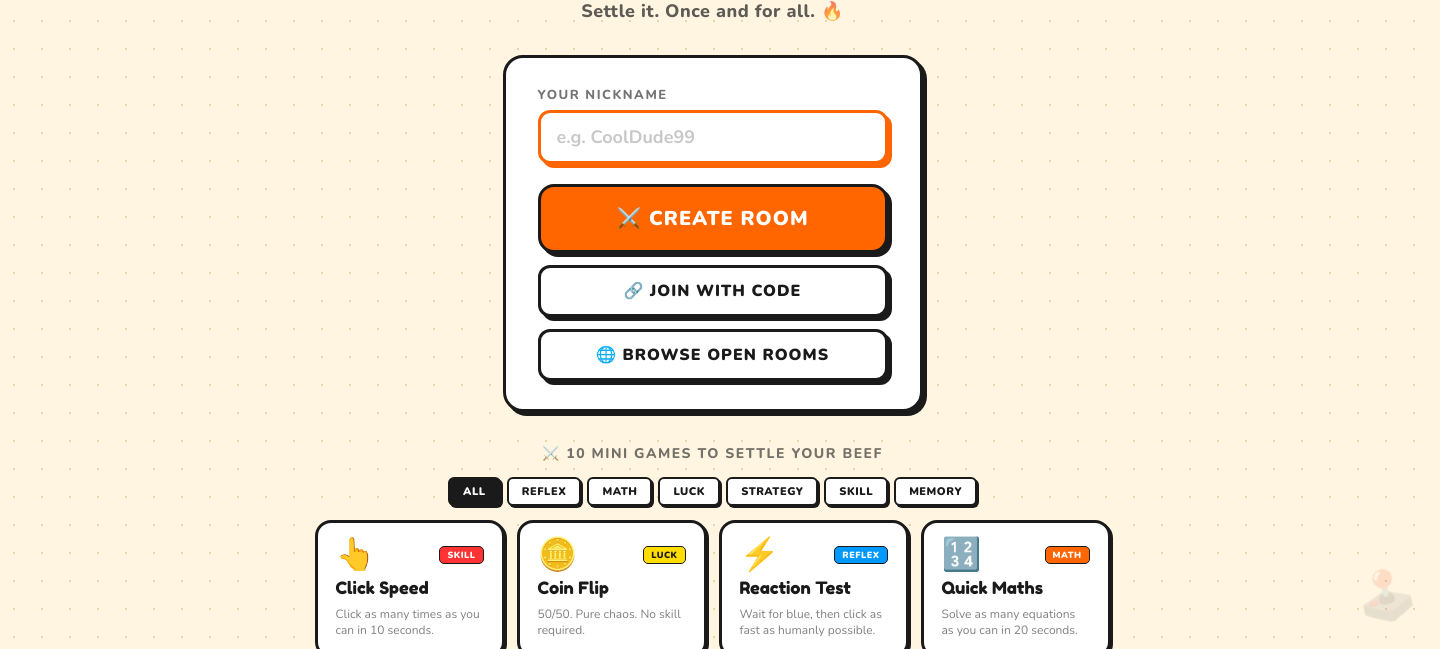
it: HomePage — game gallery › restores all games when ALL pill is clicked after filtering
What coordinates should you click on to do the following:
click the button "math"
I would click on:
 (620, 492)
Its box is [588, 477, 652, 506].
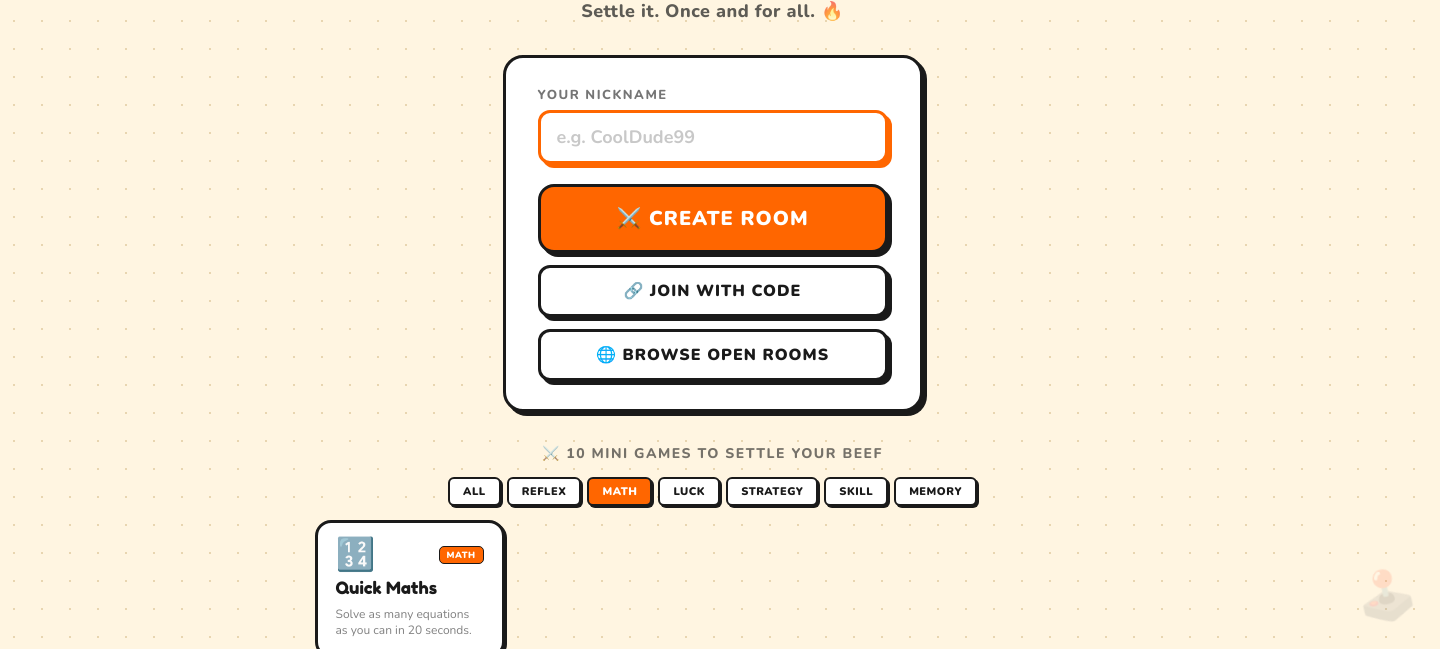
What coordinates should you click on to do the following:
click the button "all"
I would click on:
 (474, 492)
Its box is [448, 477, 501, 506].
(page scrolled)
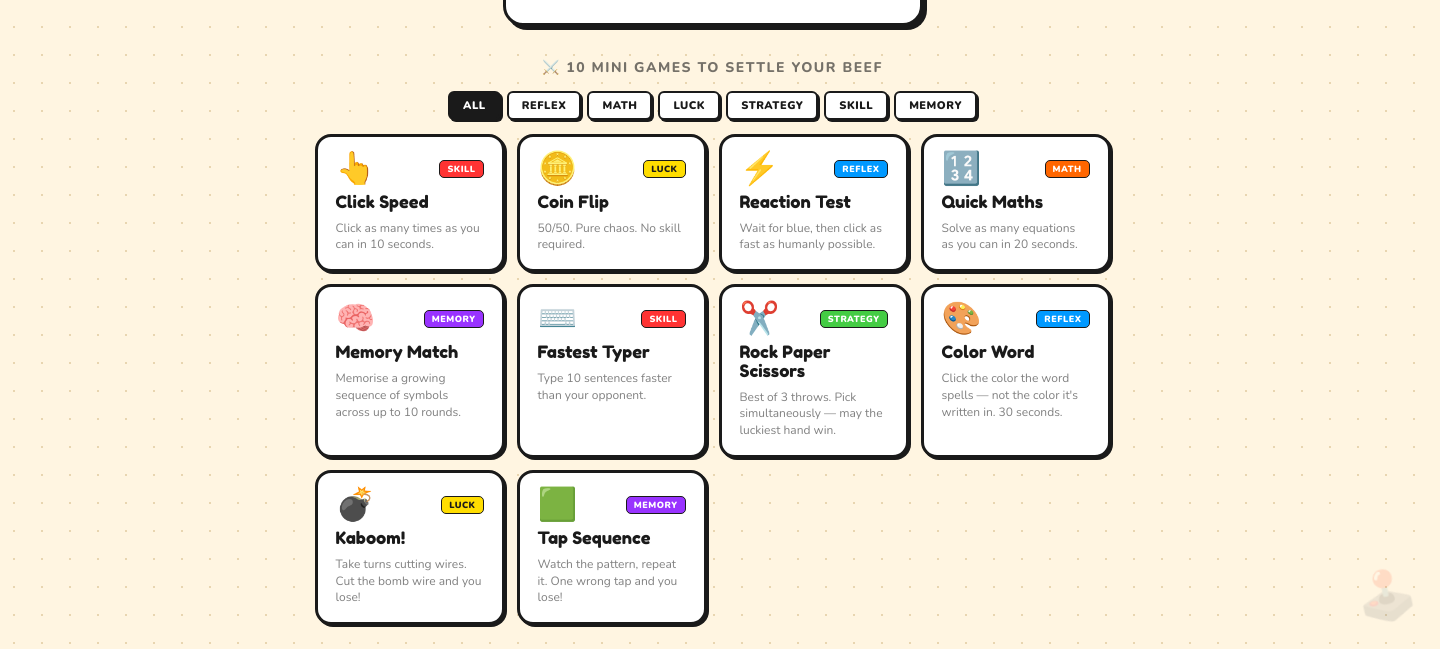
Now the text "Click Speed" is shown, box [336, 191, 429, 212]
Now the text "Coin Flip" is shown, box [538, 191, 609, 212]
Now the text "Reaction Test" is shown, box [740, 191, 851, 212]
